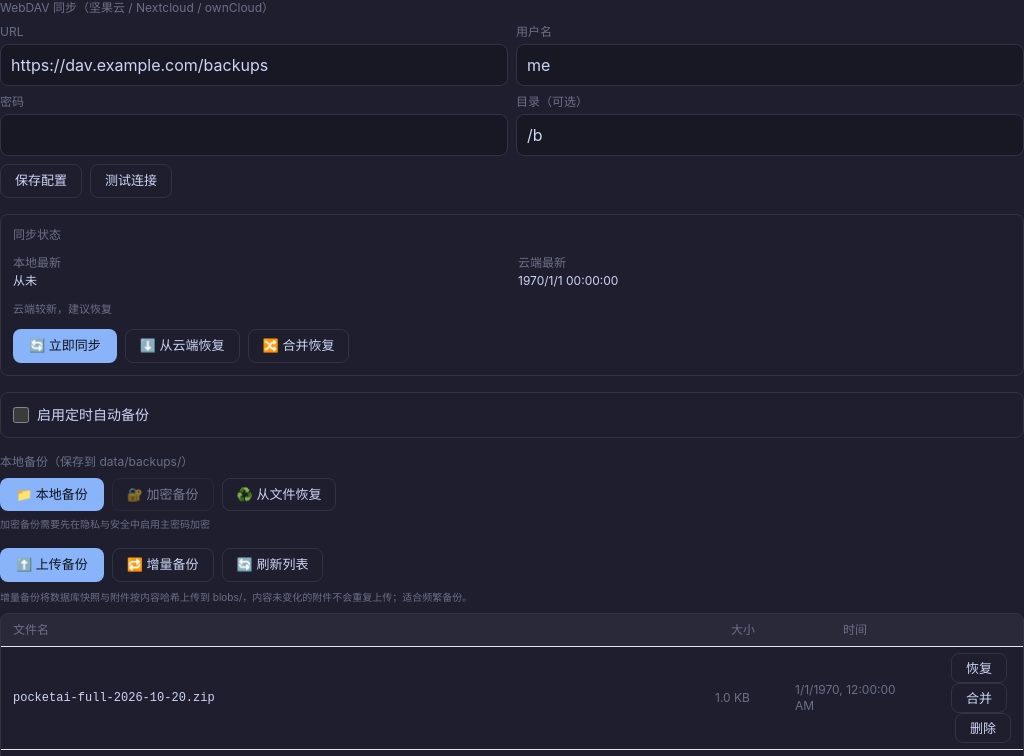
it: §324③ 云端清单：旧地址那发迟到不许盖掉新清单，也不许翻掉「还在加载」 › 手动刷新在飞时改了地址并保存 ⇒ 迟到那份不许把旧清单画回当前屏
This screenshot has width=1024, height=756.
Click the button "🔄 刷新列表": [273, 565] box [222, 548, 324, 582]
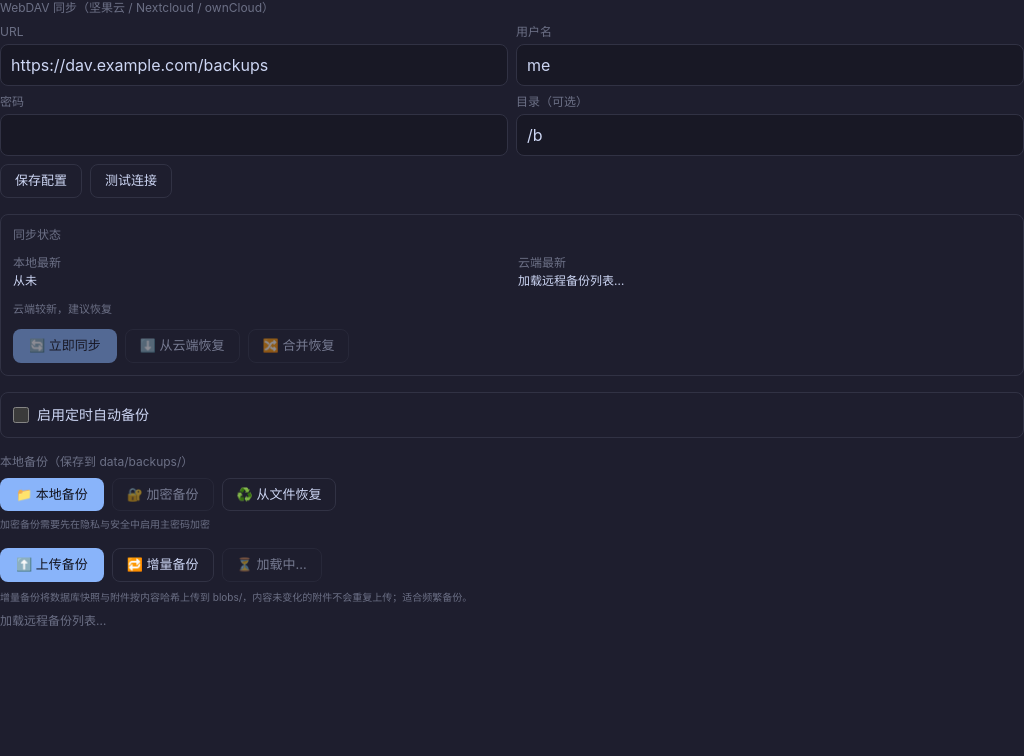
Note: 改地址＋保存 ⇒ effect 用新 cfg 再拉一次（第 3 发是最新那发）
Replace the text in the field showing "https://dav.example.com/backups" below "URL" with "https://new.example.com/d": [254, 65] box [0, 44, 508, 86]
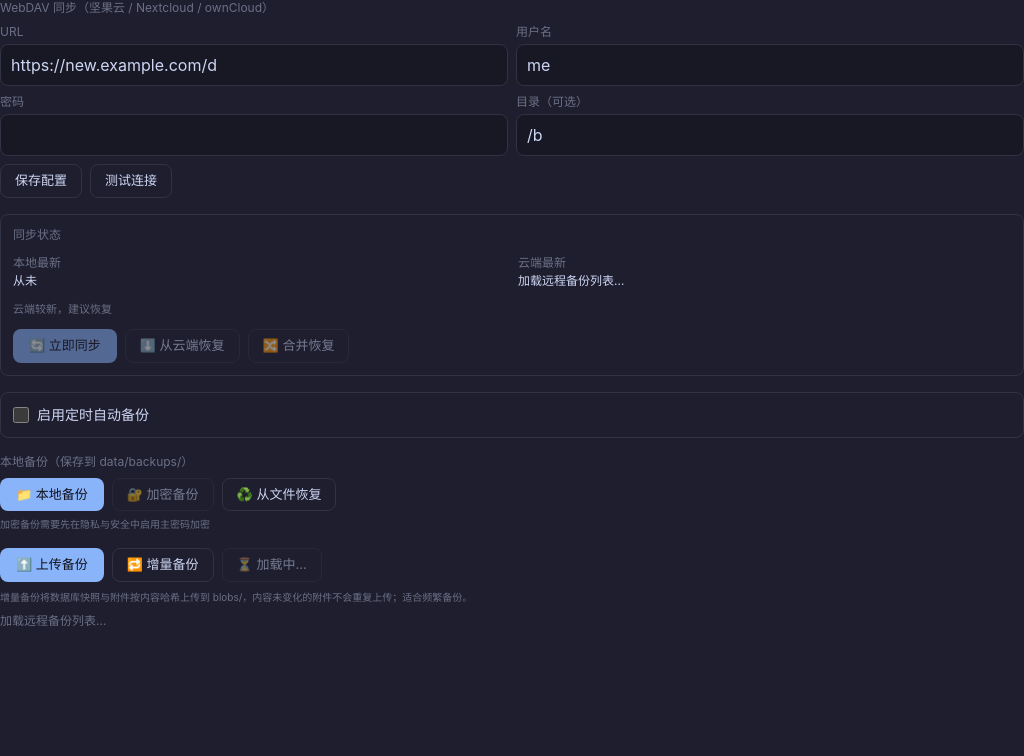
Click the button "保存配置": [41, 181] box [0, 164, 82, 198]
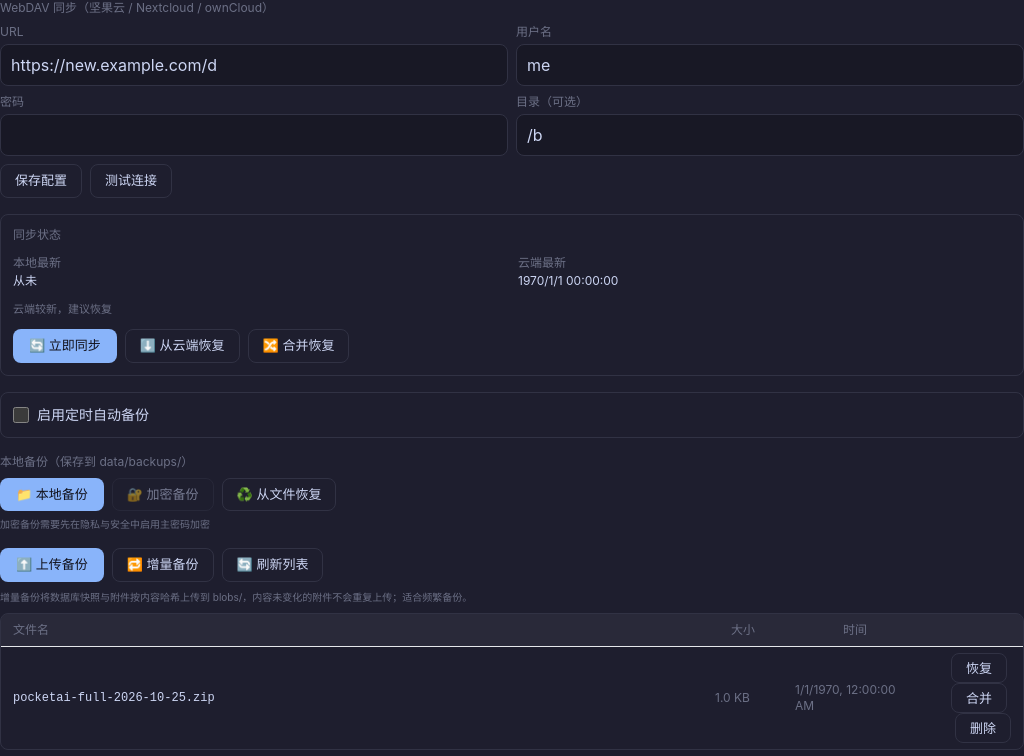
Expected: the text "pocketai-full-2026-10-20.zip" is not shown
Expected: the text "pocketai-full-2026-10-25.zip" is shown, [1, 646, 703, 748]
